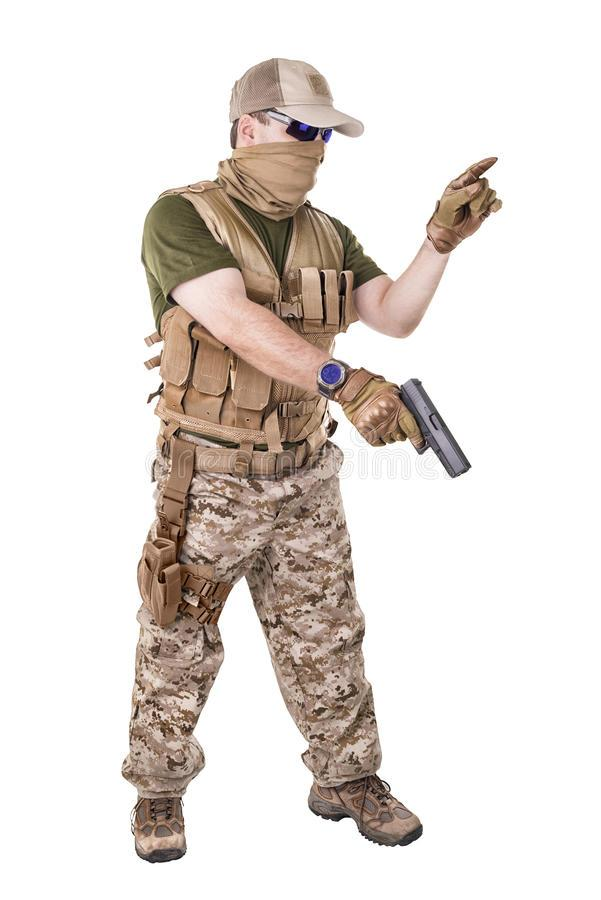criminal: (116, 48, 506, 872)
weapon: (384, 370, 477, 481)
